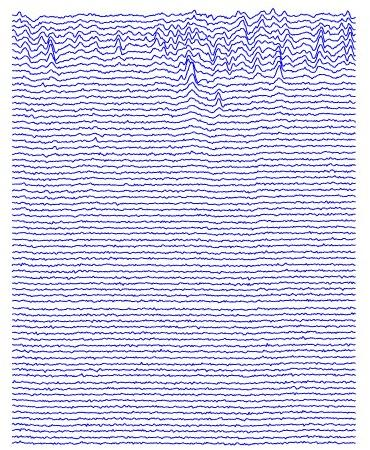defect: (174, 19, 203, 89), (11, 9, 31, 74), (74, 26, 102, 66), (219, 33, 241, 76), (40, 30, 64, 68), (311, 24, 326, 74), (242, 8, 260, 49), (340, 18, 354, 67), (206, 32, 220, 68), (110, 25, 125, 58), (249, 52, 267, 78), (275, 39, 285, 77), (213, 87, 227, 111)
